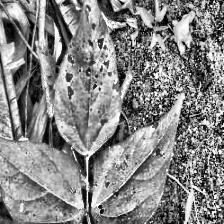ALS: (91, 98, 180, 224), (50, 0, 126, 132)
